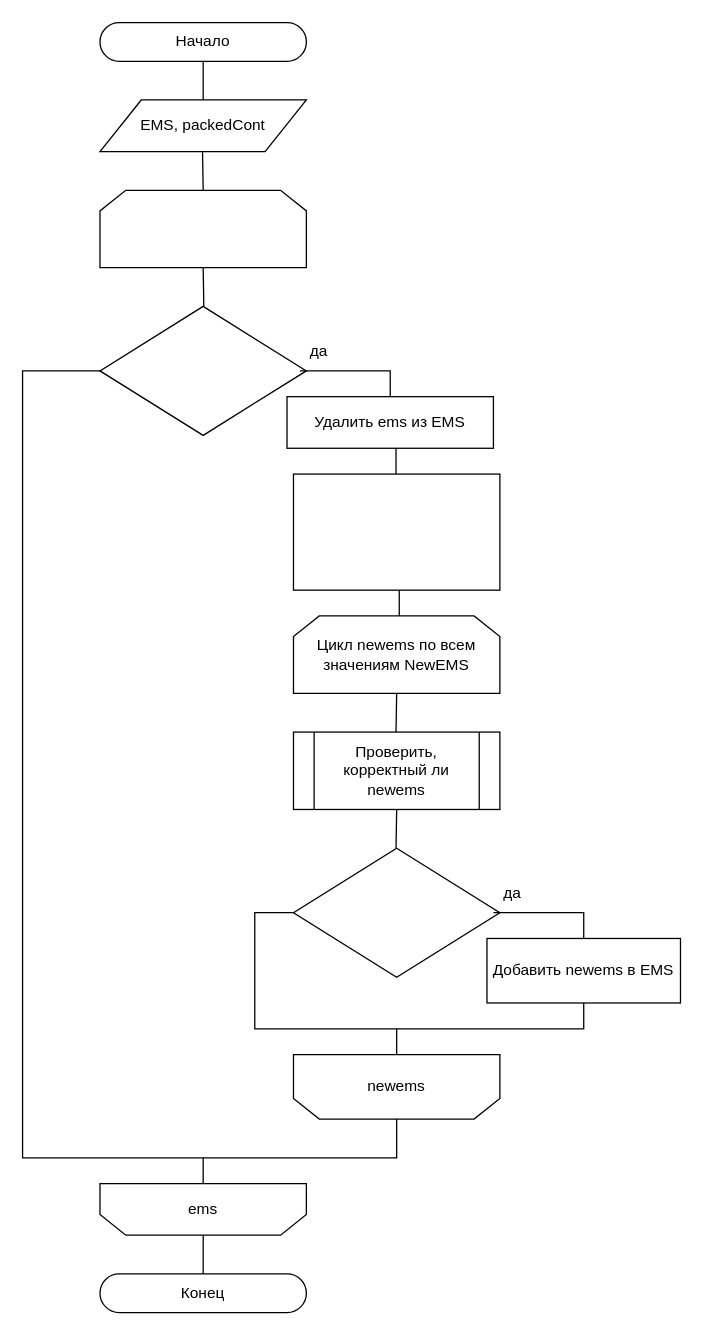
Image size: 703x1335. Some labels were removed from this diagram. The shapes that lost their labels are listed below. From the top down, each one's centre as x and y in pixels, then its label:
pixel 202 228: Цикл ems по всем значениям EMS
pixel 202 370: ems пересекает или покрывает packedCont
pixel 396 531: Создать массив NewEMS из 6 новых ems, образованных наложением packedCont и EMS
pixel 396 912: newems корректный и не покрывается другими ems
